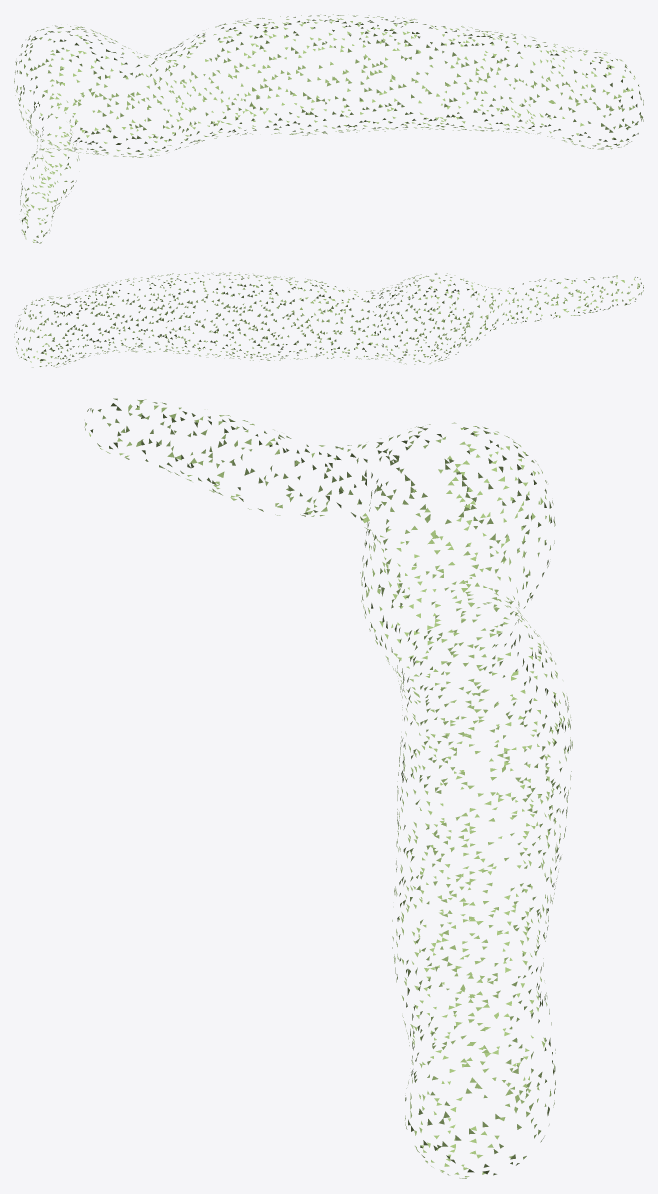
The model's file is morph_012.glb.
The picture shows the model from 3 angles, top to bottom: view 1: azimuth 30°, elevation 25°; view 2: azimuth 150°, elevation 25°; view 3: azimuth 270°, elevation 25°; orthographic projection. The views are drawn at different scales.
Size of the model in its own units: 130 by 42.39 by 52.15.
